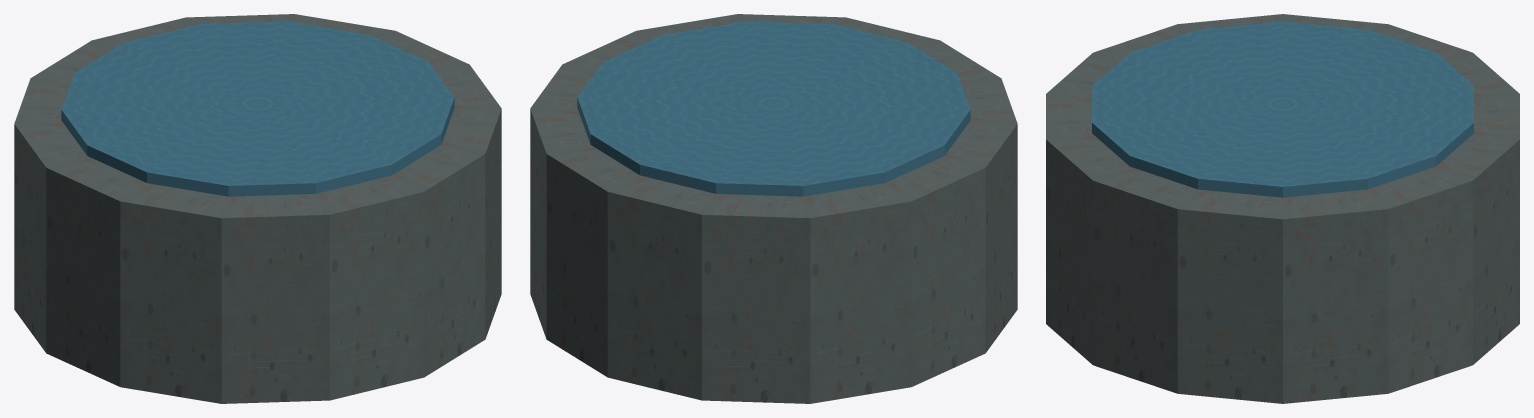
The model's file is en-020_rain_catcher_placement_set__basin.obj.
The picture shows the model from 3 angles, left to right: view 1: azimuth 30°, elevation 25°; view 2: azimuth 150°, elevation 25°; view 3: azimuth 270°, elevation 25°; orthographic projection.
Visible parts, largest first — view 1: en-020_rain_catcher_placement_set__basin; view 2: en-020_rain_catcher_placement_set__basin; view 3: en-020_rain_catcher_placement_set__basin.
Part boxes in pixels (left/top/right/bottom): en-020_rain_catcher_placement_set__basin: left=14, top=14, right=501, bottom=403; en-020_rain_catcher_placement_set__basin: left=530, top=14, right=1017, bottom=403; en-020_rain_catcher_placement_set__basin: left=1046, top=14, right=1519, bottom=403.
Bounding box in the file's own units: 0.62 × 0.2775 × 0.6045.
2 materials, 2 textured.
